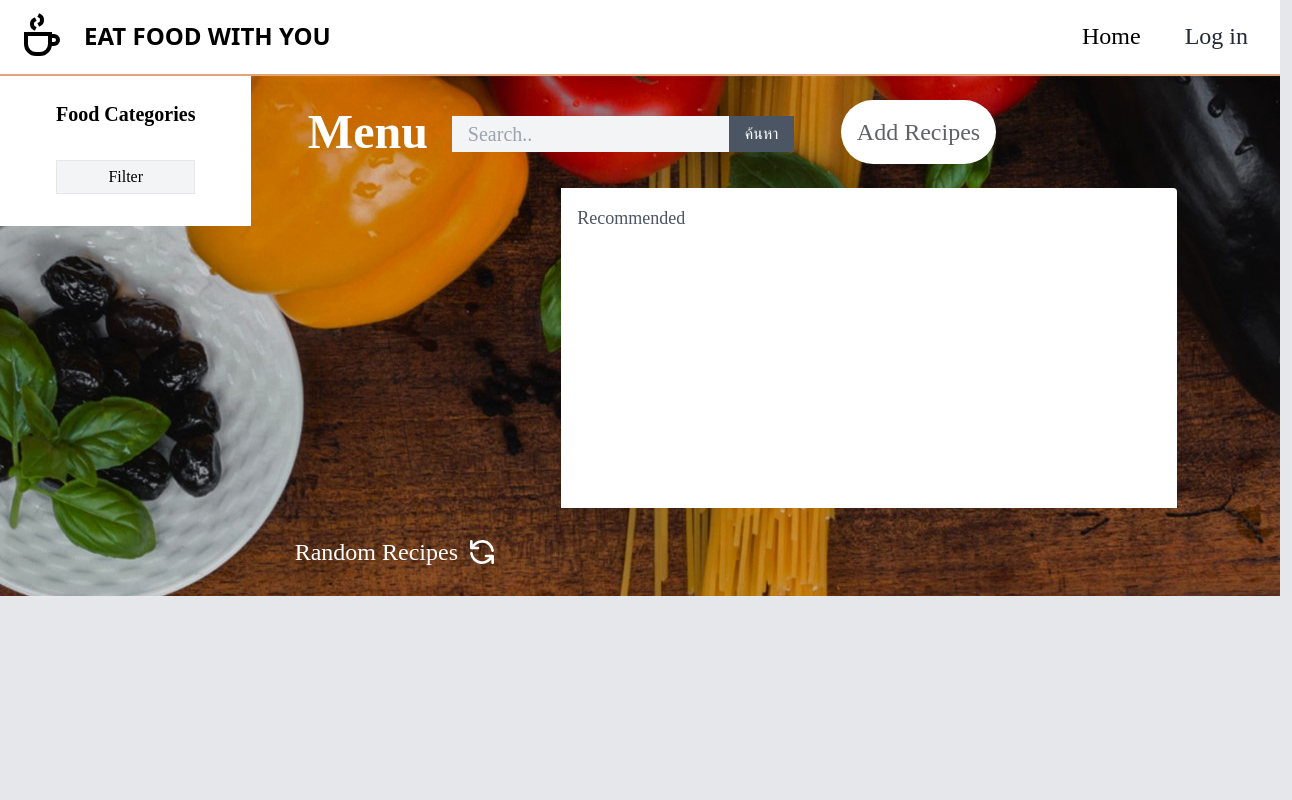
Home › Search food Recipe by name
Type "กะ" into the field with id "searchByName". click: [591, 134]
box: [452,116,729,152]
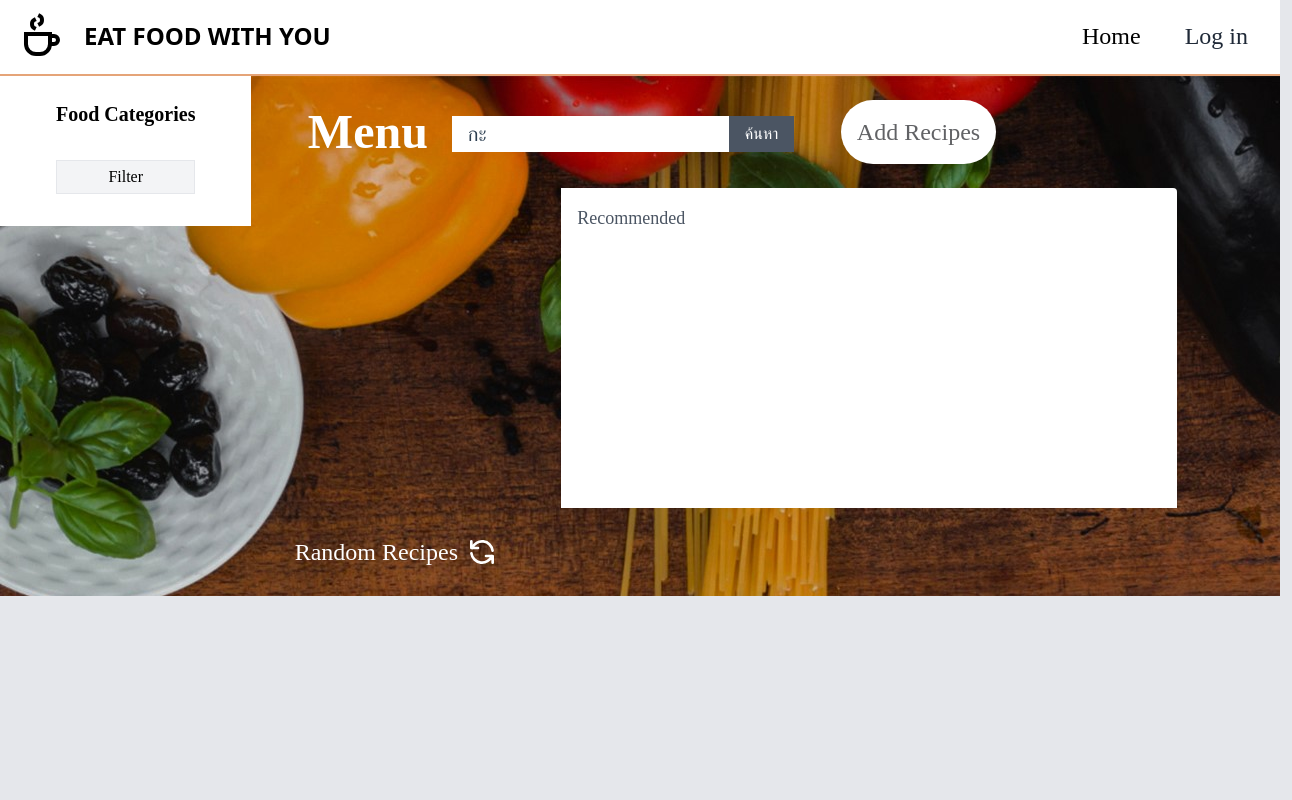
Click the link with id "searchByNameBt". click: [762, 134]
box: [729,116,795,152]
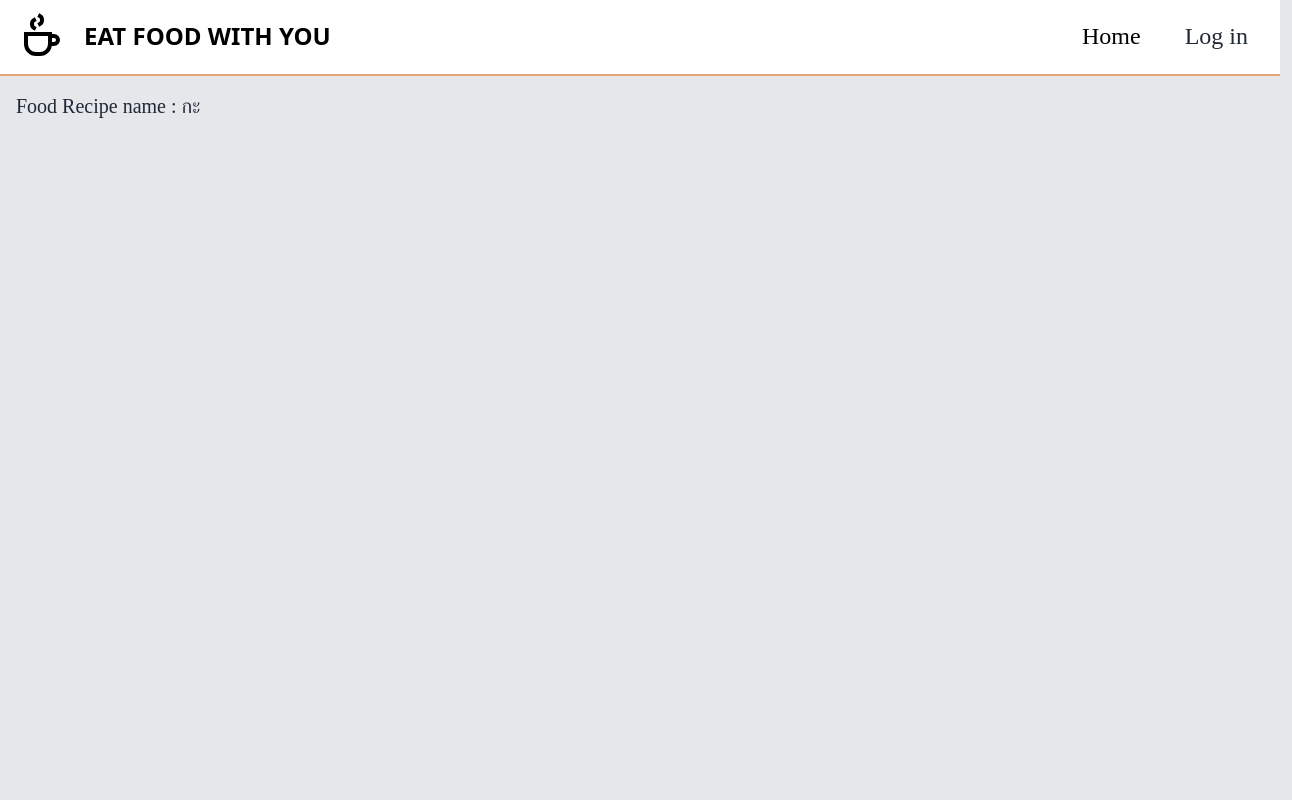
Result: the heading "Food Recipe name : กะ" is shown at [16,95,200,117]
